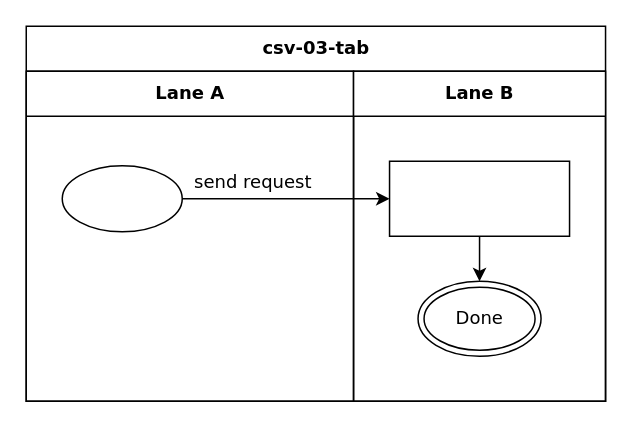
Image size: 633x428. Some labels were removed from this diagram. The shapes that lost their labels are listed below. From the top down, each one's centre as x and y in pixels, then its label:
pixel 121 198: Start
pixel 479 198: Process
